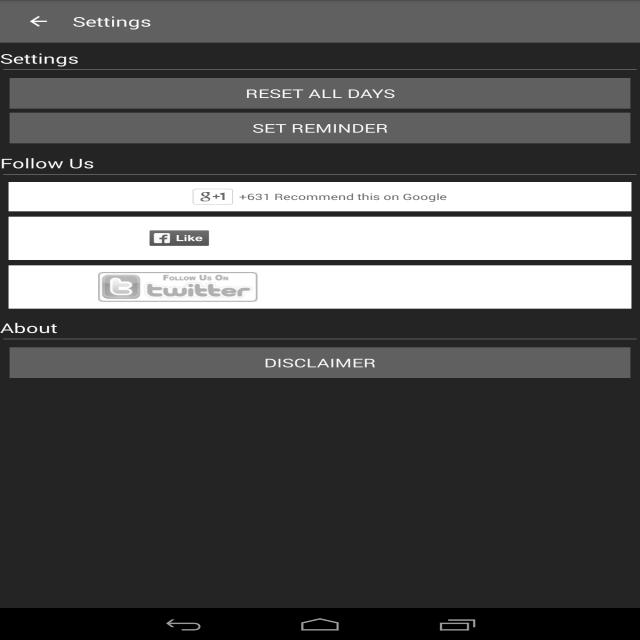Button: (9, 78, 632, 110), (9, 112, 632, 144), (9, 346, 632, 378)
ImageButton: (9, 0, 68, 43)
ImageView: (19, 224, 339, 254), (19, 272, 337, 302)
TextView: (239, 190, 447, 202), (0, 154, 94, 172), (0, 49, 79, 68), (72, 12, 152, 30), (0, 318, 58, 336)
